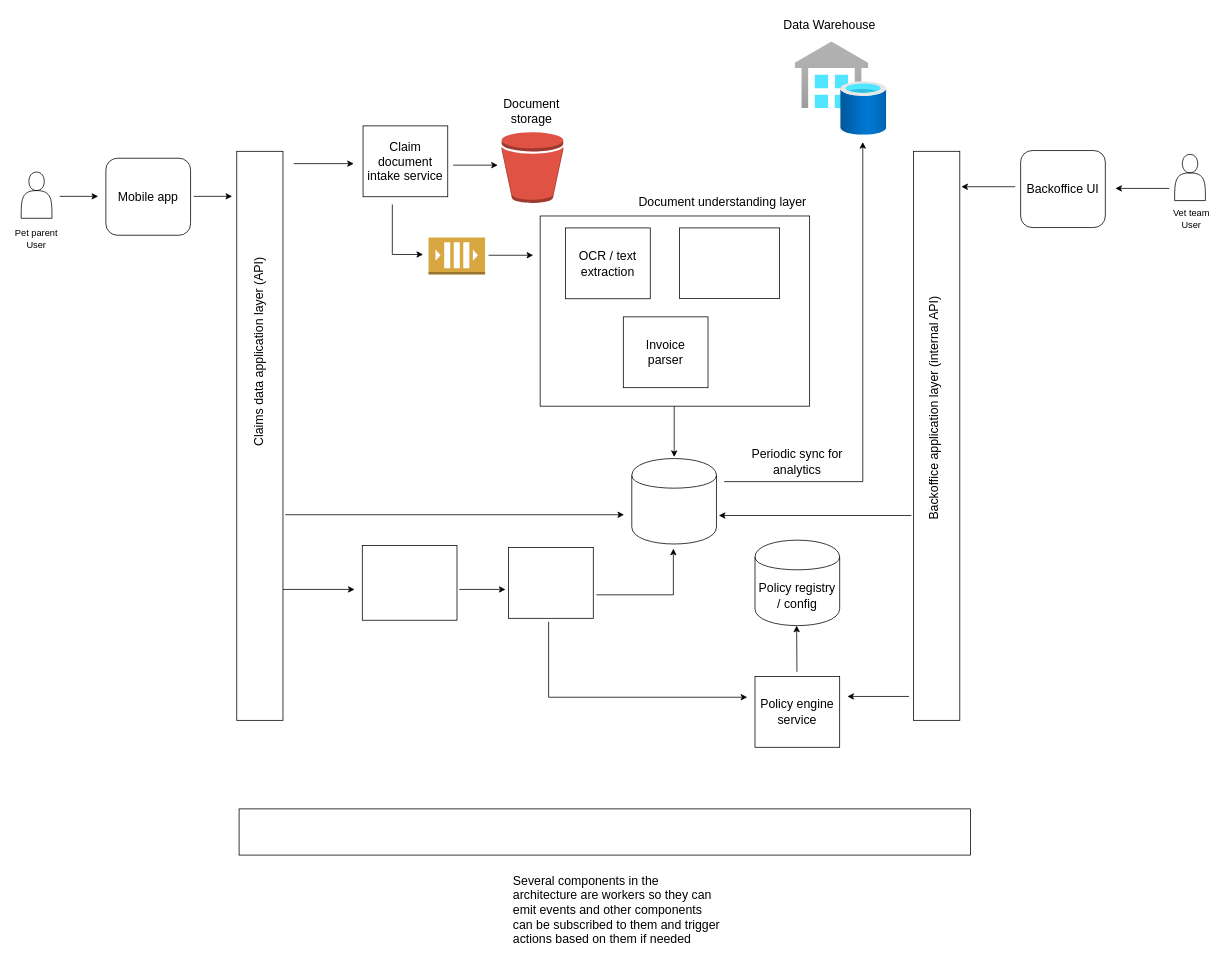
Some shapes in this 1227 by 959 pixel diagram are drawn without their labels. Each missing label, with the centre of its shape:
"Decision engine & orchestrator service" goes at (550,582).
"Event bus" goes at (604,831).
"Medical history summarizer / timeline builder" goes at (729,262).
"Payment / Reimbursement service" goes at (409,582).
"Structured claim data store" goes at (673,501).
